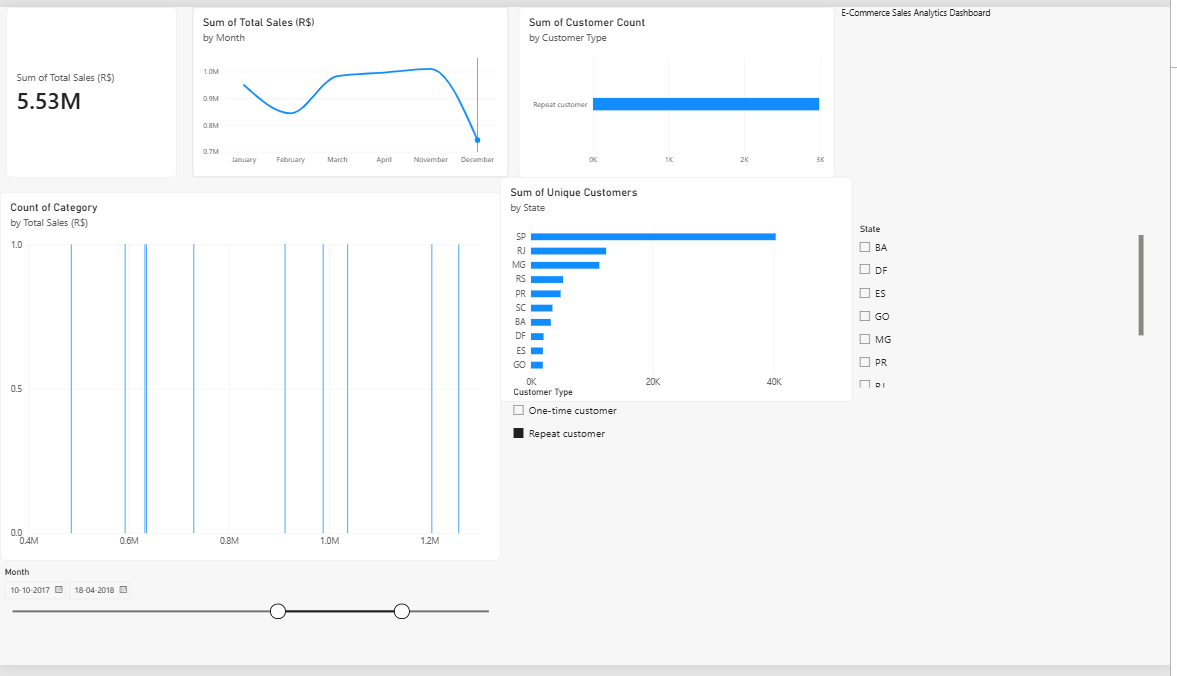

The page's visual inventory and layout, read from the dashboard file:
{"tool":"powerbi","page":{"name":"Page 1","canvas":[1920,1080],"ordinal":0},"visuals":[{"type":"cardVisual","fields":{"Data":["Sum(Sales Analysis.Total Sales (R$))"]},"box":[10,0,280,280],"z":0},{"type":"lineChart","fields":{"Category":["Sales Analysis.Month.Variation.Date Hierarchy.Month"],"Y":["Sum(Sales Analysis.Total Sales (R$))"]},"box":[317,0,518.7,279.9],"z":1000},{"type":"clusteredBarChart","fields":{"Category":["Customer Analysis.Customer Type"],"Y":["Sum(Customer Analysis.Customer Count)"]},"box":[852.1,0,518.7,279.9],"z":2000},{"type":"clusteredColumnChart","fields":{"Category":["Category Analysis.Total Sales (R$)"],"Y":["CountNonNull(Category Analysis.Category)"]},"box":[0,304.6,821.3,605.1],"z":3000},{"type":"clusteredBarChart","fields":{"Category":["State Analysis.State"],"Y":["Sum(State Analysis.Unique Customers)"]},"box":[821.3,279.9,578.4,368.4],"z":4000},{"type":"textbox","box":[1381,0,519,280],"z":5000},{"type":"slicer","fields":{"Values":["State Analysis.State"]},"box":[1403.8,354,473.4,269.6],"z":6000},{"type":"slicer","fields":{"Values":["Customer Analysis.Customer Type"]},"box":[835.7,623.7,821,160],"z":6001},{"type":"slicer","fields":{"Values":["Sales Analysis.Month"]},"box":[0,920,821,160],"z":6002}]}

Visuals, with their boxes on the page's 1920x1080 design canvas (x1, y1, x2, y2). These are canvas units, not pixel positions in the 1177x676 screenshot, which may show the page scaled, cropped or inside an application window:
cardVisual - Sum(Sales Analysis.Total Sales (R$)): 10/0/290/280
lineChart - Sales Analysis.Month.Variation.Date Hierarchy.Month x Sum(Sales Analysis.Total Sales (R$)): 317/0/836/280
clusteredBarChart - Customer Analysis.Customer Type x Sum(Customer Analysis.Customer Count): 852/0/1371/280
clusteredColumnChart - Category Analysis.Total Sales (R$) x CountNonNull(Category Analysis.Category): 0/305/821/910
clusteredBarChart - State Analysis.State x Sum(State Analysis.Unique Customers): 821/280/1400/648
textbox: 1381/0/1900/280
slicer - State Analysis.State: 1404/354/1877/624
slicer - Customer Analysis.Customer Type: 836/624/1657/784
slicer - Sales Analysis.Month: 0/920/821/1080
